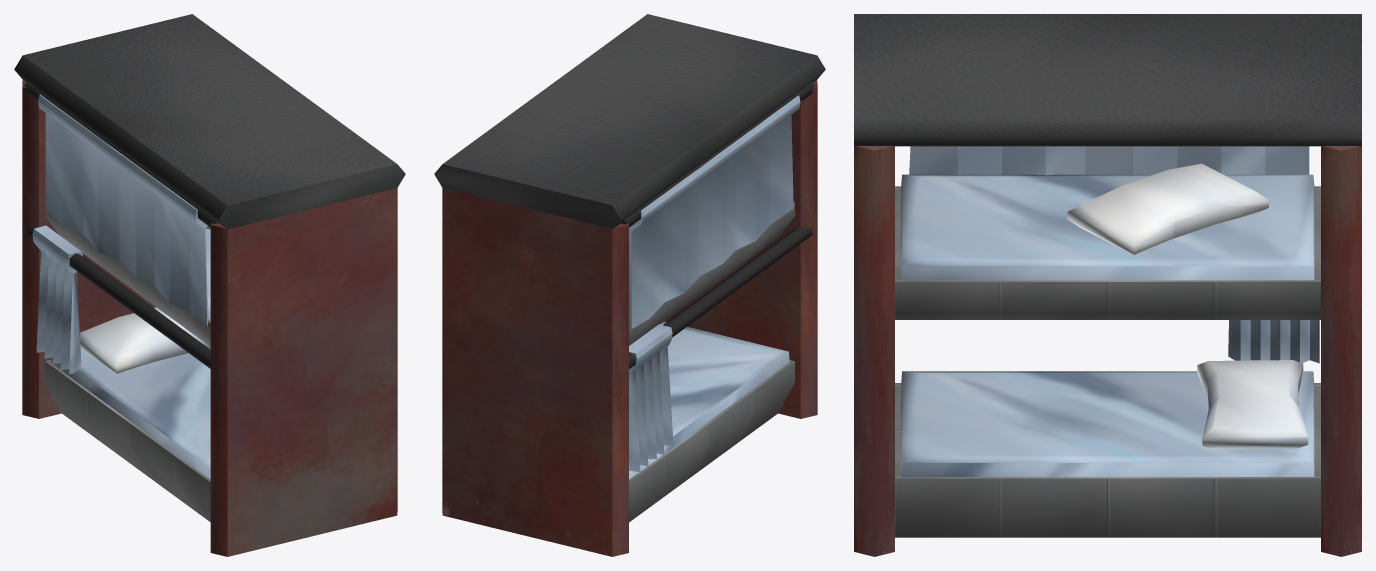
Rendered from Bed.obj.
3 views of the same model, side by side, from view 1: azimuth 30°, elevation 25°; view 2: azimuth 150°, elevation 25°; view 3: azimuth 270°, elevation 25° (orthographic). The views are drawn at different scales.
Parts seen in each view (by area): view 1: Cube; view 2: Cube; view 3: Cube.
Part boxes in pixels (x1=…): Cube: x1=14, y1=14, x2=405, y2=556; Cube: x1=434, y1=14, x2=825, y2=556; Cube: x1=854, y1=14, x2=1361, y2=556.
Bounding box in the file's own units: 1.56 × 2.81 × 2.97.
5 materials, 5 textured.
